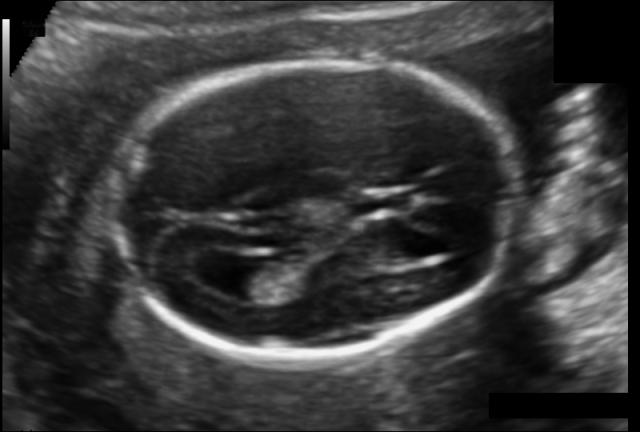CHOROID_PLEXUS: (234, 247, 322, 317)
CSP: (379, 164, 458, 230)
MIDLINE_FALX: (122, 177, 492, 253)
